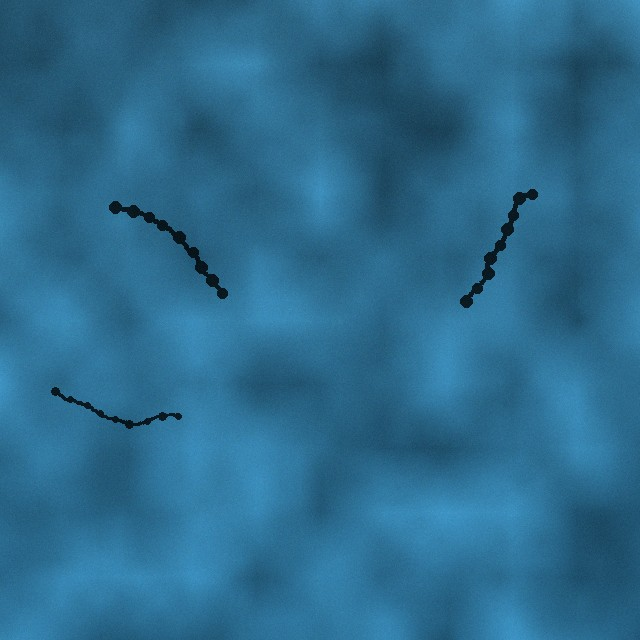crack: (108, 200, 230, 302), (458, 187, 539, 309), (50, 386, 185, 429)
